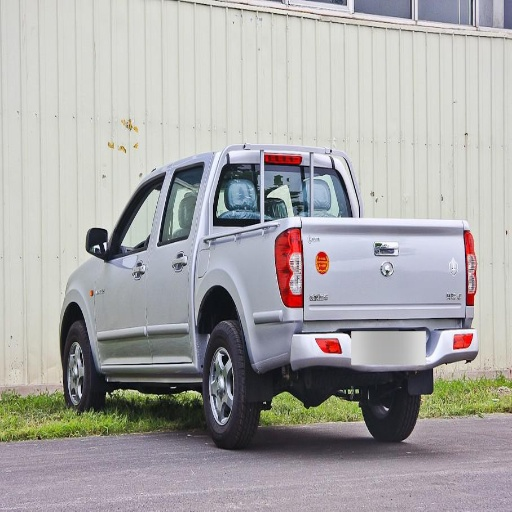back_bumper: (255, 320, 472, 370)
back_left_door: (147, 177, 199, 362)
back_left_light: (274, 227, 304, 307)
trunk: (197, 220, 463, 363)
